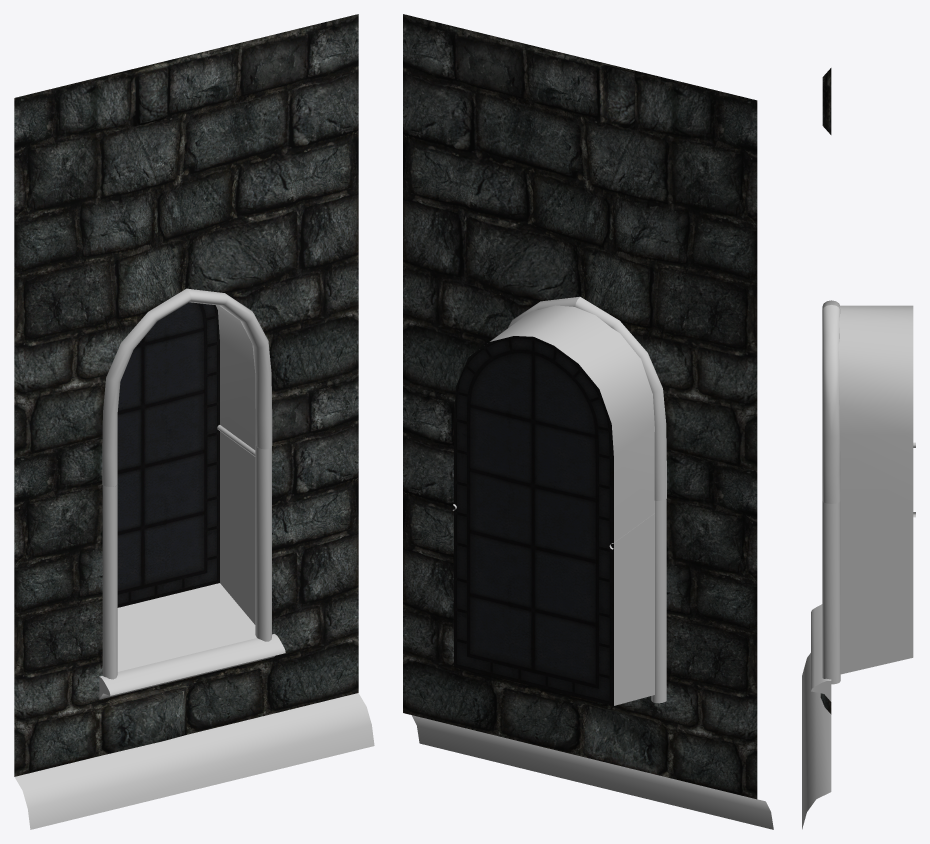
The model's file is square_brick_window_large_blue_off.dae.
3 renders of one model, left to right at view 1: azimuth 30°, elevation 25°; view 2: azimuth 150°, elevation 25°; view 3: azimuth 270°, elevation 25°, orthographic. The views are drawn at different scales.
Visible parts, largest first — view 1: polySurface177, polySurface174, polySurface175, polySurface178, polySurface176; view 2: polySurface177, polySurface174, polySurface178, polySurface175, polySurface176; view 3: polySurface175, polySurface176, polySurface177.
Part boxes in pixels (x1,y1,x2,y2): polySurface177: (14, 14, 358, 457); polySurface174: (14, 374, 358, 776); polySurface175: (99, 288, 285, 699); polySurface178: (117, 302, 219, 607); polySurface176: (14, 693, 374, 829); polySurface177: (403, 14, 757, 470); polySurface174: (403, 385, 757, 799); polySurface178: (454, 336, 613, 705); polySurface175: (453, 296, 666, 705); polySurface176: (411, 715, 773, 829); polySurface175: (811, 300, 915, 701); polySurface176: (802, 653, 831, 829); polySurface177: (822, 68, 831, 134).
Bounding box in the file's own units: 4 × 8 × 1.25.
